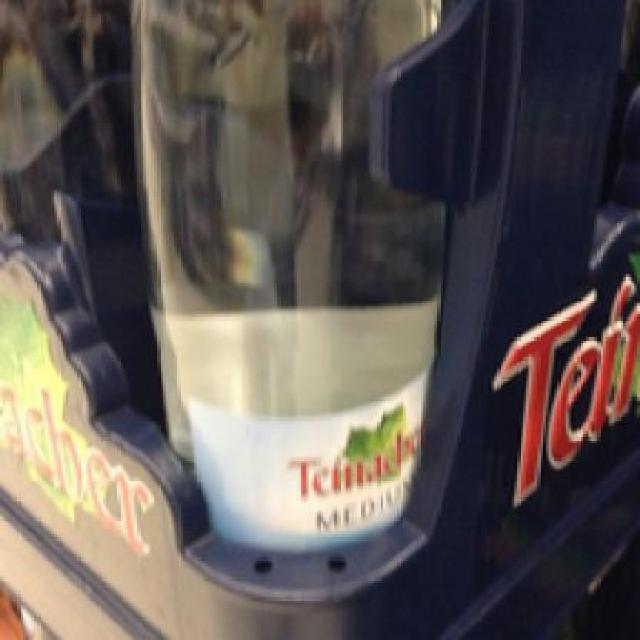Water: (124, 0, 446, 555)
